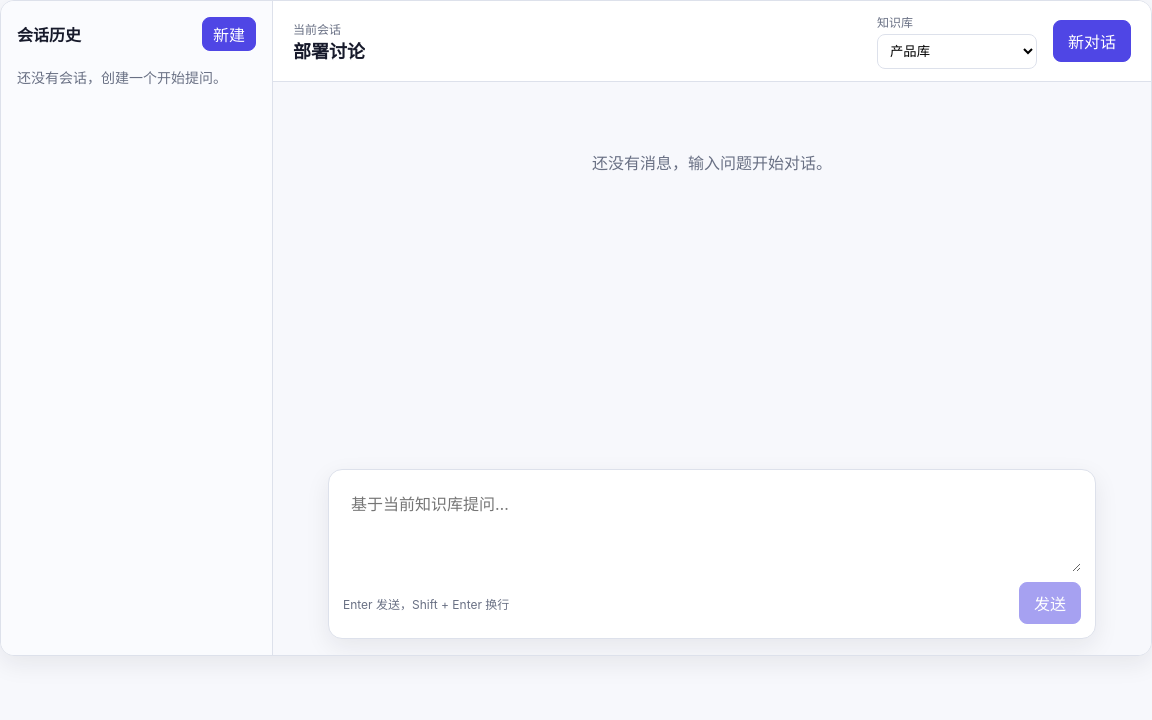
Test case: ChatPage › hides cancelled state from conversation A after switching to another knowledge base
Step 1. Type "question A" into the text box with placeholder "基于当前知识库提问…" → (712, 528), box [343,484,1081,572]
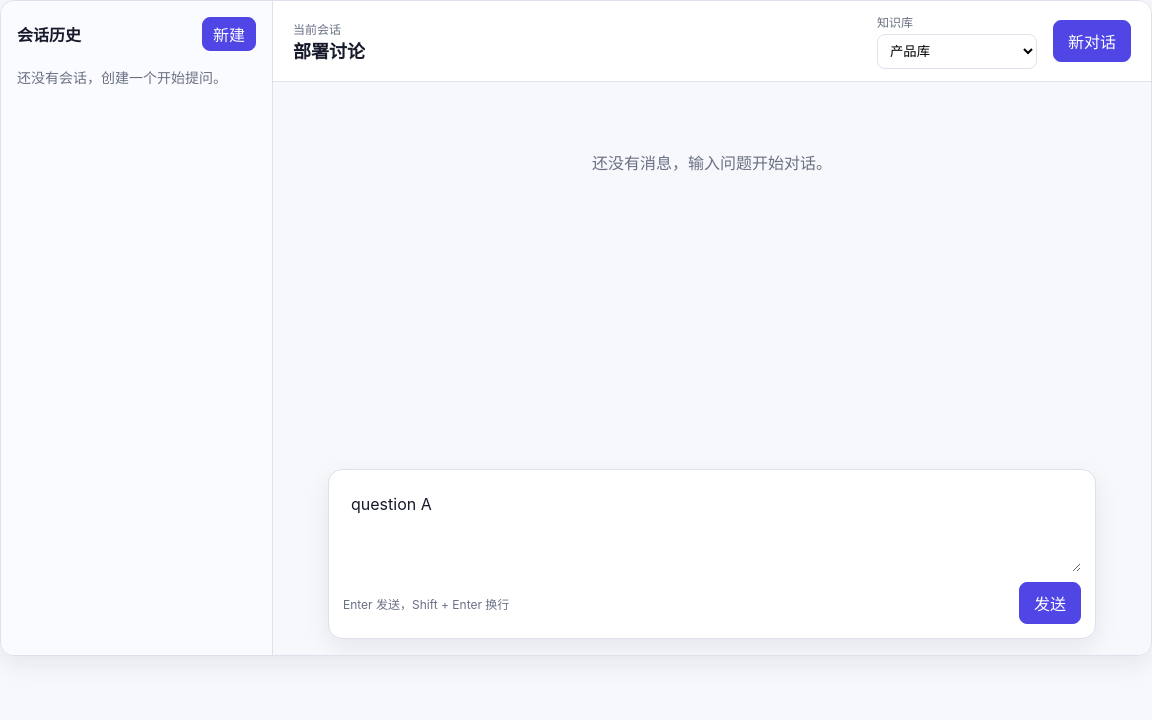
Step 2. Press Enter in the text box, box [343,484,1081,572]
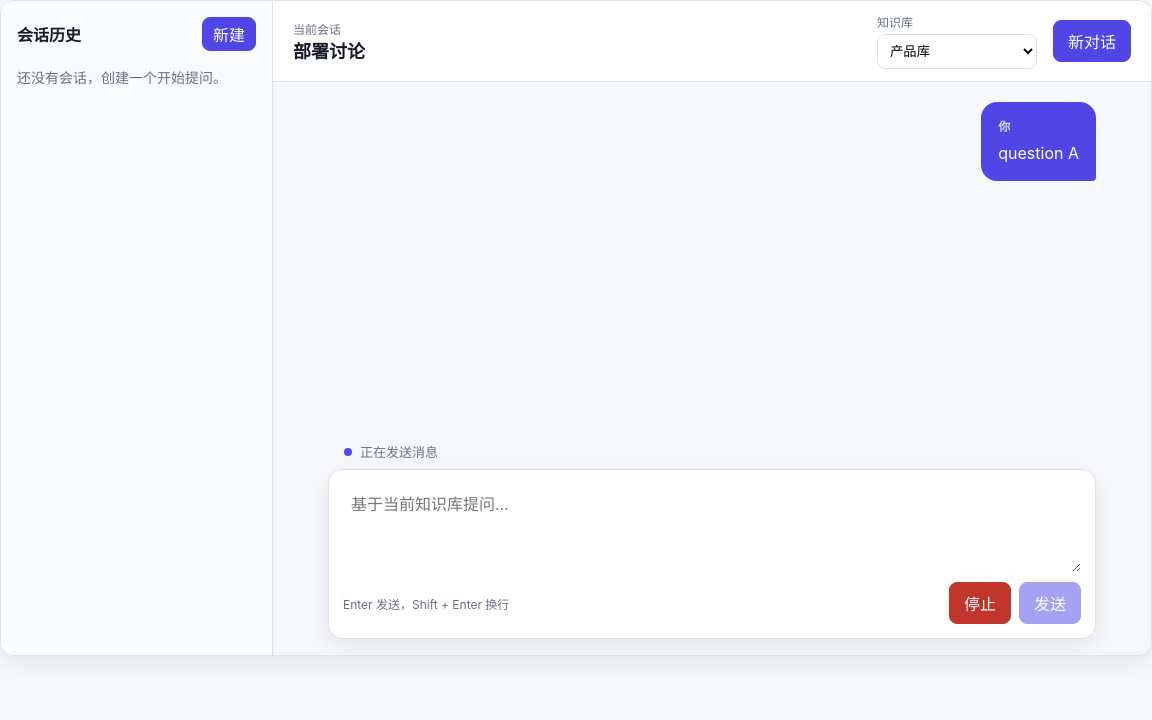
Expected: the button with aria-label "停止生成" is shown
Step 3. Click the button with aria-label "停止生成" → (980, 603), box [949,582,1011,624]
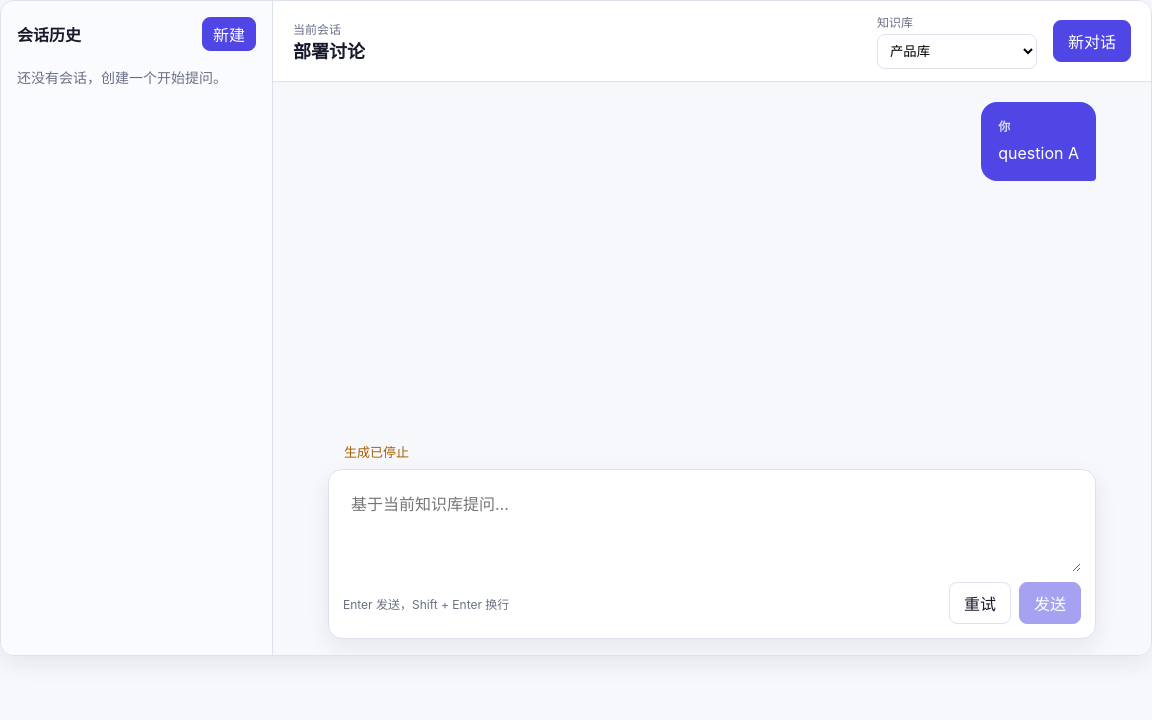
Expected: the text "生成已停止" is shown, [344,444,409,460]
Step 4. Select "技术库" in the dropdown named "当前知识库" → (957, 52), box [877,34,1037,69]
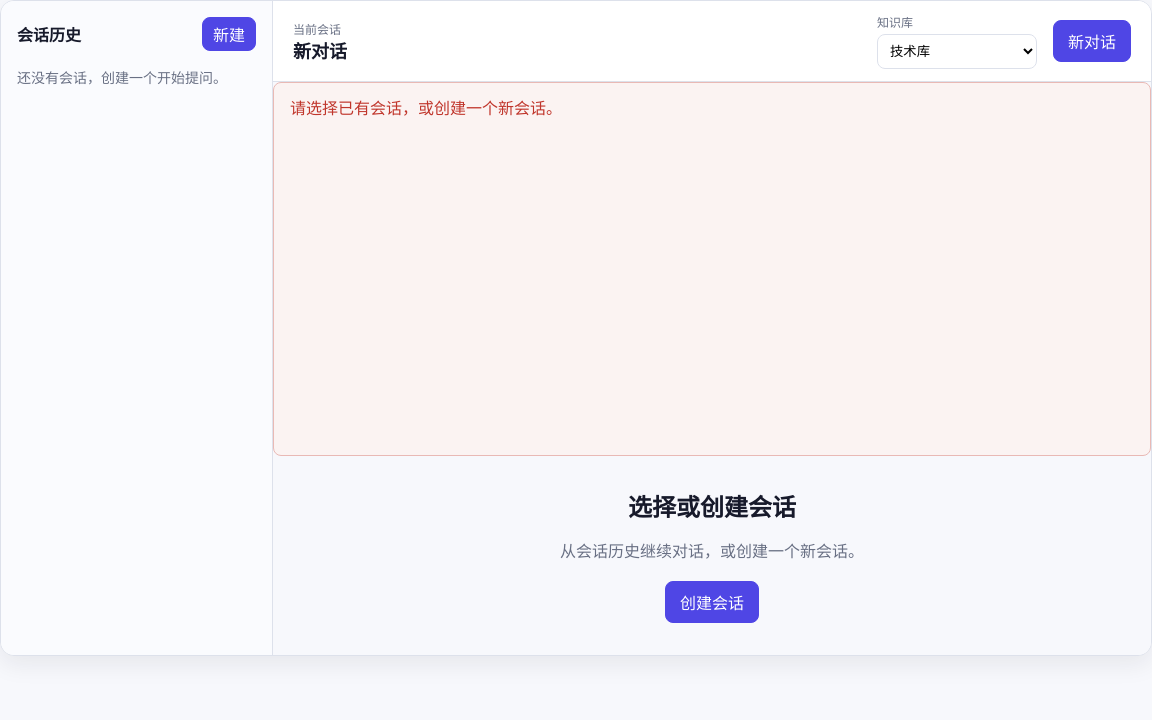
Expected: the text "生成已停止" is gone
